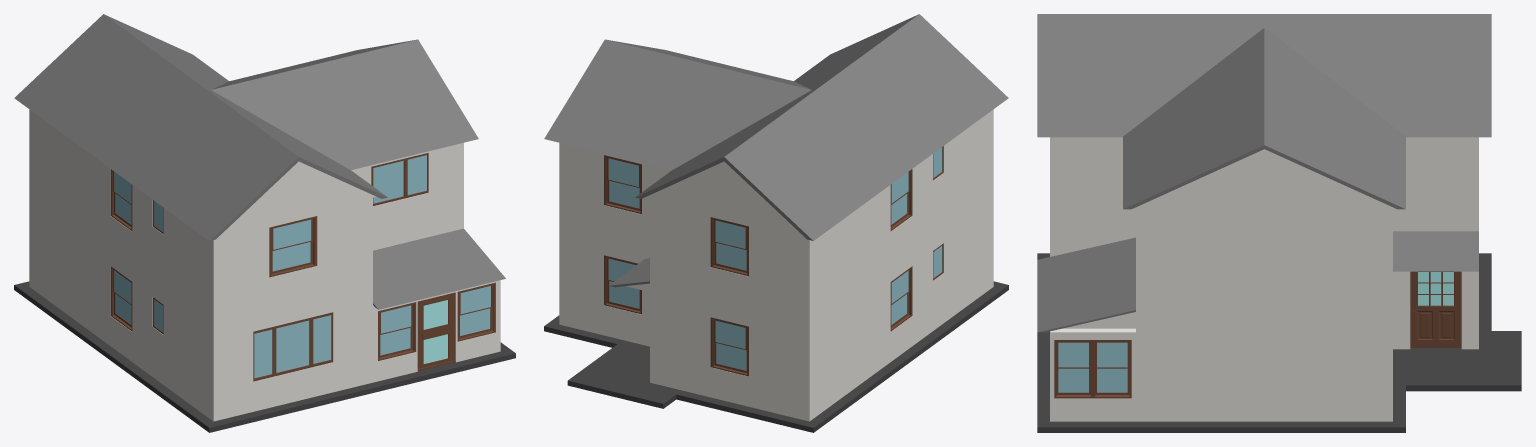
Rendered from task-14-x.obj.
The picture shows the model from 3 angles, left to right: view 1: azimuth 30°, elevation 25°; view 2: azimuth 150°, elevation 25°; view 3: azimuth 270°, elevation 25°; orthographic projection. The views are drawn at different scales.
Parts seen in each view (by area): view 1: wall, roof_1, roof_2, roof_3, ground_base, window_glass_16, door_frame_1, window_glass_14, window_glass_3, window_glass_2, door_glass_1, window_glass_1 (+11 smaller); view 2: wall, roof_1, roof_2, ground_base, window_glass_5, window_glass_4, window_glass_6, window_glass_11, window_frame_5, window_frame_4, window_glass_7, window_frame_6 (+5 smaller); view 3: wall, roof_1, roof_2, ground_base, roof_3, roof_0, door_frame_0, window_glass_12, window_glass_13, door_glass_0, window_frame_12, window_frame_13.
Part boxes in pixels (bbox=[...]): wall: bbox=[29, 109, 500, 421]; roof_1: bbox=[14, 14, 387, 240]; roof_2: bbox=[211, 39, 478, 169]; roof_3: bbox=[373, 228, 505, 309]; ground_base: bbox=[14, 281, 515, 432]; window_glass_16: bbox=[272, 219, 311, 271]; door_frame_1: bbox=[417, 292, 455, 371]; window_glass_14: bbox=[276, 320, 309, 372]; window_glass_3: bbox=[460, 286, 490, 335]; window_glass_2: bbox=[380, 305, 411, 355]; door_glass_1: bbox=[423, 300, 447, 363]; window_glass_1: bbox=[373, 160, 403, 203]; wall: bbox=[559, 109, 993, 421]; roof_1: bbox=[635, 14, 1008, 240]; roof_2: bbox=[544, 39, 811, 169]; ground_base: bbox=[544, 281, 1008, 432]; window_glass_5: bbox=[715, 220, 746, 270]; window_glass_4: bbox=[715, 320, 746, 370]; window_glass_6: bbox=[608, 158, 639, 208]; window_glass_11: bbox=[608, 258, 639, 308]; window_frame_5: bbox=[710, 217, 748, 276]; window_frame_4: bbox=[710, 317, 748, 376]; window_glass_7: bbox=[891, 270, 908, 324]; window_frame_6: bbox=[604, 155, 641, 214]; wall: bbox=[1050, 137, 1478, 421]; roof_1: bbox=[1037, 14, 1491, 137]; roof_2: bbox=[1123, 28, 1405, 209]; ground_base: bbox=[1037, 253, 1521, 432]; roof_3: bbox=[1037, 237, 1135, 332]; roof_0: bbox=[1393, 231, 1478, 271]; door_frame_0: bbox=[1410, 271, 1461, 347]; window_glass_12: bbox=[1097, 342, 1127, 392]; window_glass_13: bbox=[1058, 342, 1088, 392]; door_glass_0: bbox=[1418, 272, 1453, 305]; window_frame_12: bbox=[1093, 340, 1131, 398]; window_frame_13: bbox=[1054, 340, 1092, 398].
Bounding box in the file's own units: 9.6 × 7.61 × 11.3.
